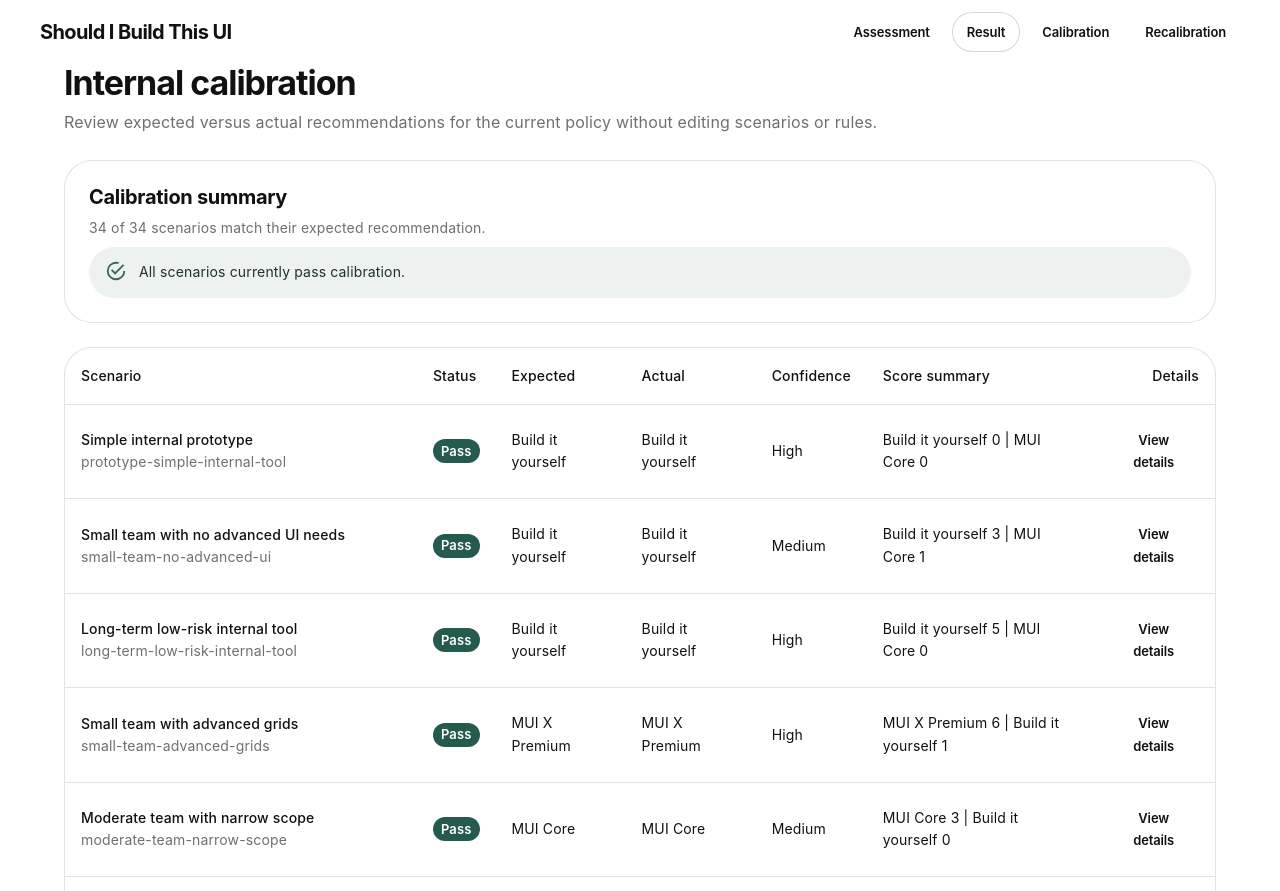
Scenario: CalibrationPage › shows scenario details in a read-only drawer
The width and height of the screenshot is (1280, 891).
Click the button "View details" in the row of "Simple internal prototype". click: (1154, 451)
box: [1108,421,1199,482]
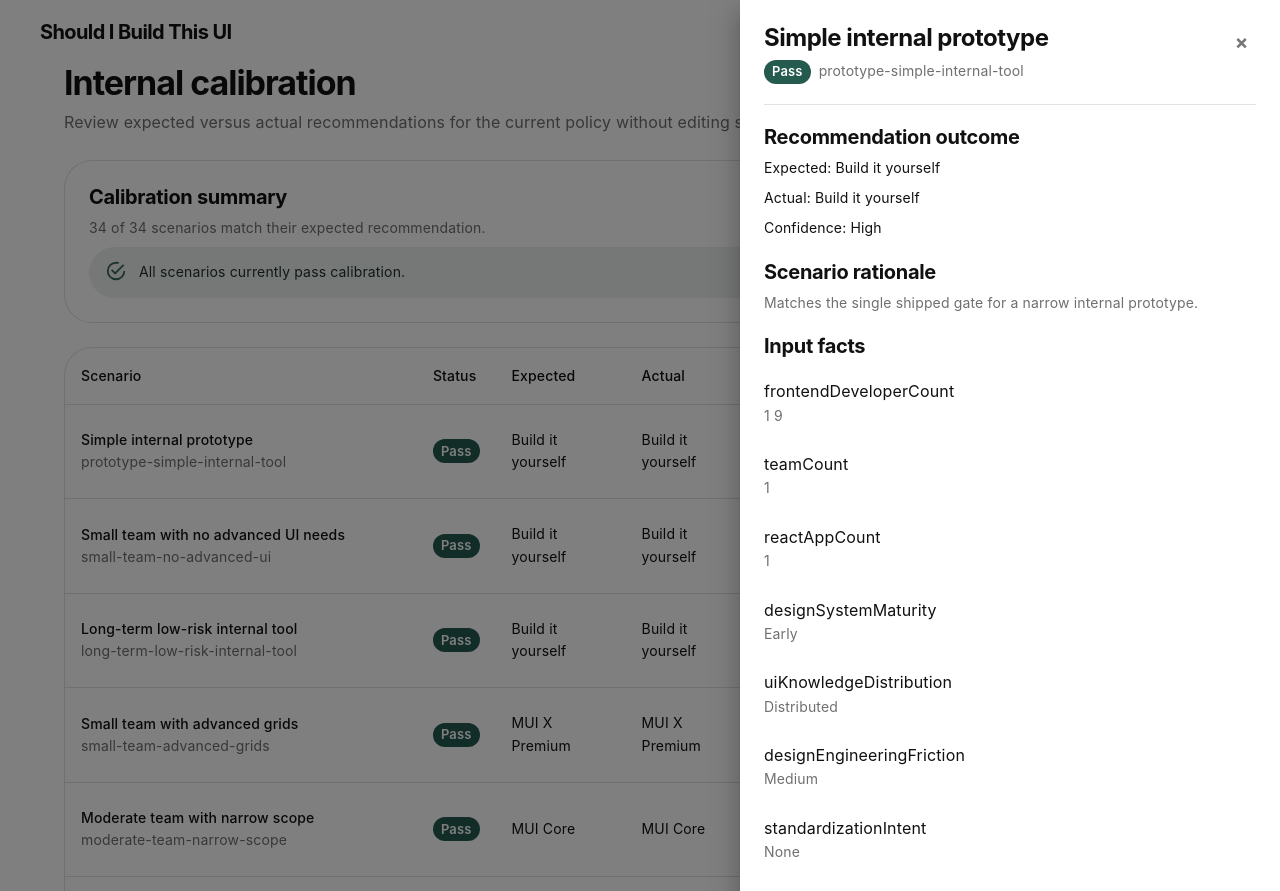
Now the heading "Simple internal prototype" is shown, box [764,24,1048,52]
Now the heading "Recommendation outcome" is shown, box [764,125,1020,149]
Now the heading "Input facts" is shown, box [764,334,865,358]
